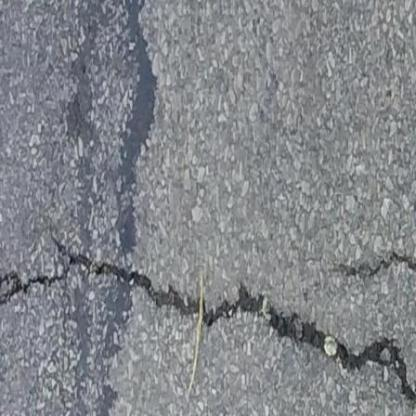Cracks: (2, 213, 416, 412)
